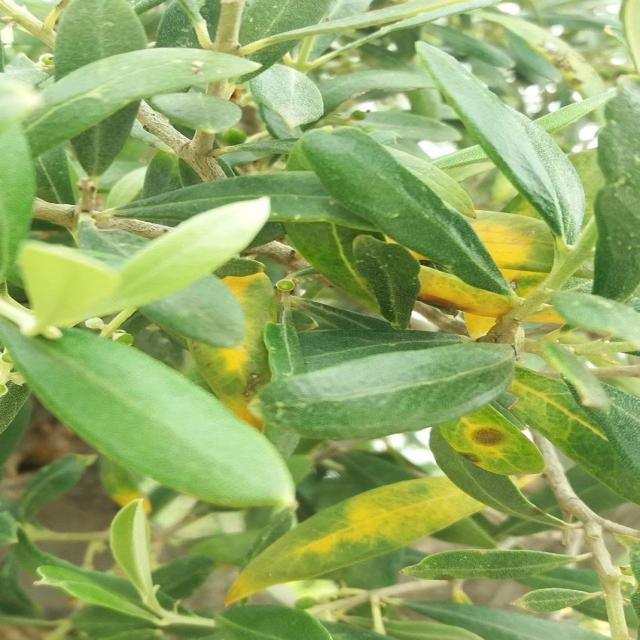Peacock Eye: (226, 477, 484, 600), (203, 264, 276, 432), (439, 406, 543, 476), (419, 266, 520, 338)
